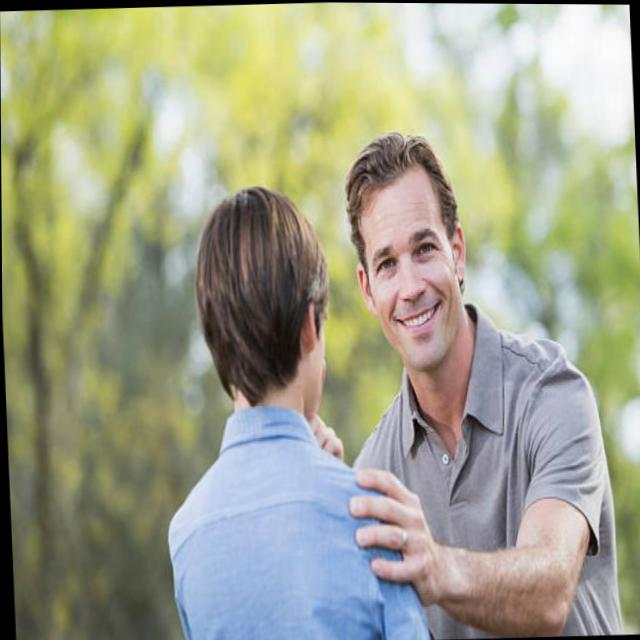no helmet: (190, 183, 327, 424)
